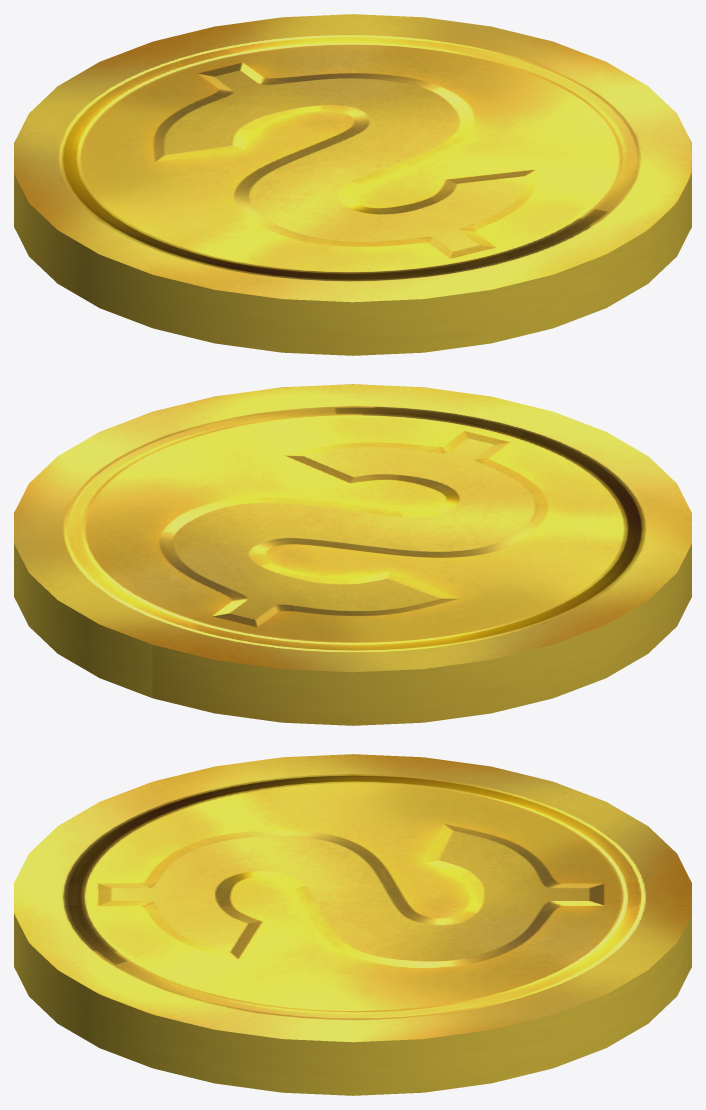
The picture shows the model from 3 angles, top to bottom: view 1: azimuth 30°, elevation 25°; view 2: azimuth 150°, elevation 25°; view 3: azimuth 270°, elevation 25°; orthographic projection.
Visible parts, largest first — view 1: JB_03; view 2: JB_03; view 3: JB_03.
Part boxes in pixels (bbox=[...]): JB_03: bbox=[14, 14, 691, 355]; JB_03: bbox=[14, 384, 691, 725]; JB_03: bbox=[14, 754, 691, 1095].
Bounding box in the file's own units: 4.64 × 0.4026 × 4.62.
1 material, 1 textured.
